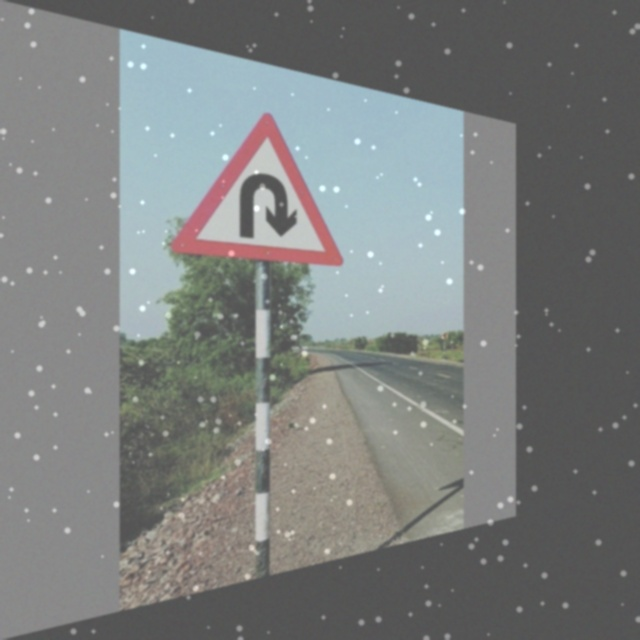Right_Hair_Pin_Bend: (185, 96, 341, 265)
